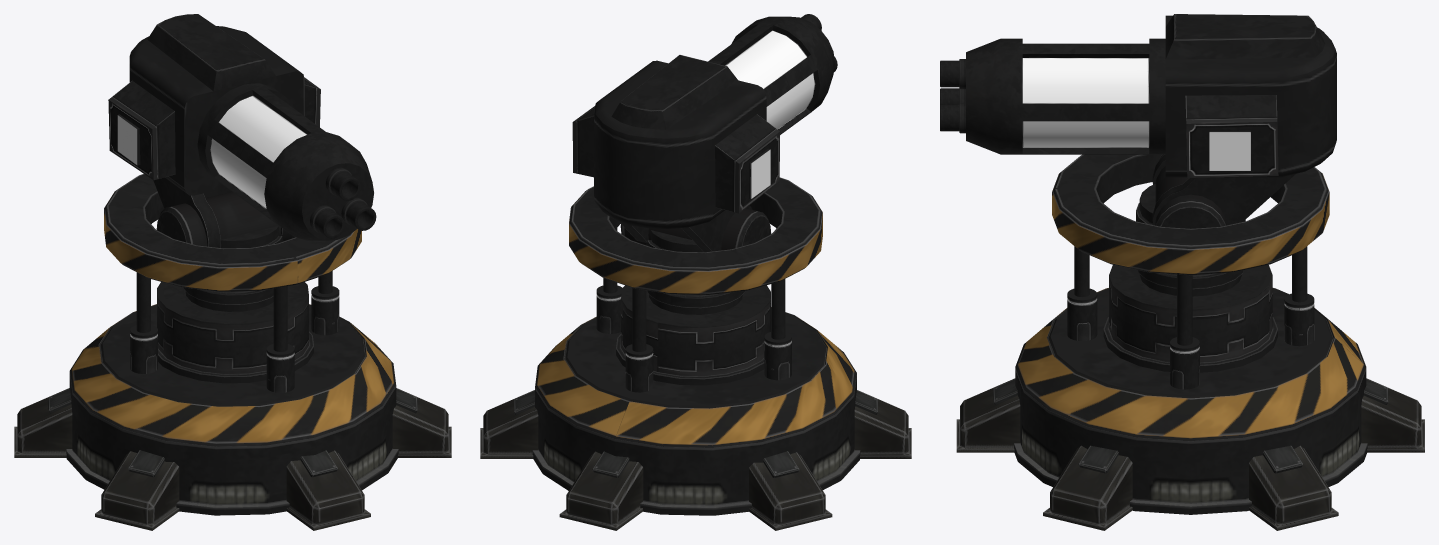
The model's file is Turret.fbx.
3 renders of one model, left to right at view 1: azimuth 30°, elevation 25°; view 2: azimuth 150°, elevation 25°; view 3: azimuth 270°, elevation 25°, orthographic. The views are drawn at different scales.
Visible parts, largest first — view 1: group25; view 2: group25; view 3: group25.
Part boxes in pixels (x1=…): group25: x1=14, y1=14, x2=451, y2=530; group25: x1=480, y1=14, x2=911, y2=530; group25: x1=940, y1=14, x2=1424, y2=530.
Size of the model in its own units: 1.41 by 1.45 by 1.55.
